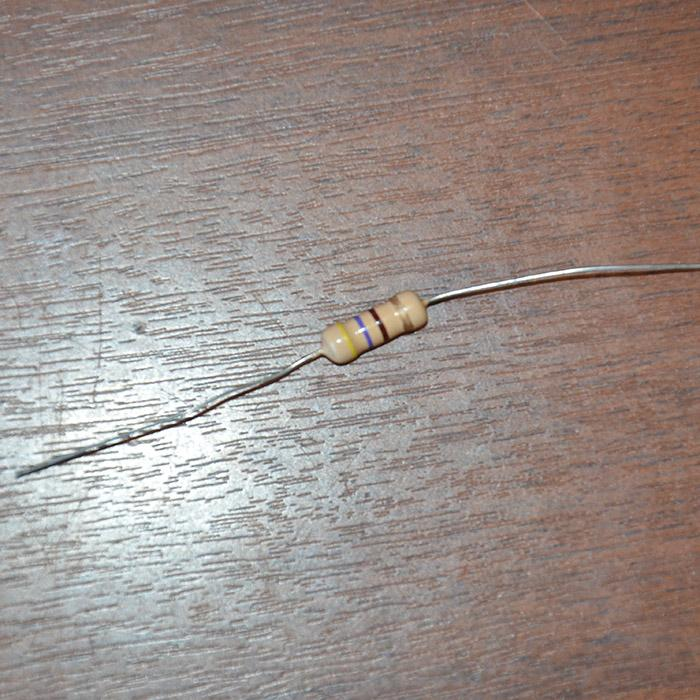resistor: (267, 332, 382, 410)
